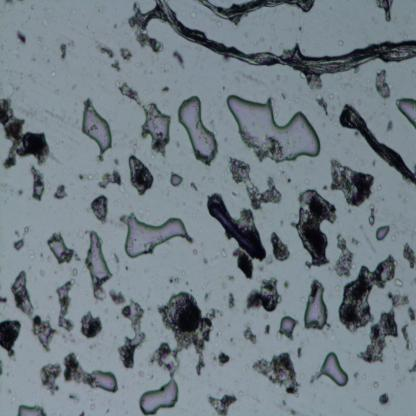Air bubble: (225, 94, 322, 164), (178, 94, 218, 166), (124, 213, 188, 257), (82, 99, 112, 151), (139, 377, 179, 414), (142, 102, 172, 148), (87, 233, 112, 288), (304, 280, 328, 329), (319, 350, 349, 388), (89, 368, 119, 396), (47, 233, 74, 264), (394, 96, 416, 126), (278, 315, 298, 340), (16, 400, 46, 414), (376, 222, 391, 240), (170, 174, 183, 187)
Background material: (153, 290, 219, 383), (337, 256, 399, 330), (0, 95, 55, 170), (356, 291, 406, 365), (296, 185, 339, 268), (13, 267, 55, 350), (227, 156, 282, 208), (326, 156, 376, 212), (248, 350, 300, 398), (119, 299, 147, 369), (130, 3, 166, 55), (244, 277, 282, 314), (53, 276, 78, 332), (61, 350, 89, 390), (332, 234, 354, 280), (130, 155, 154, 195), (0, 320, 23, 360), (38, 360, 61, 395), (27, 166, 48, 204), (268, 231, 291, 262), (81, 308, 103, 340), (97, 44, 122, 72), (97, 167, 124, 191), (206, 393, 238, 413), (374, 68, 392, 102), (118, 80, 142, 105), (235, 251, 255, 280), (375, 0, 396, 26), (400, 238, 416, 269), (90, 194, 109, 220), (399, 322, 413, 352), (166, 269, 189, 287), (278, 398, 301, 416), (107, 287, 126, 308), (241, 70, 263, 88), (216, 349, 232, 370), (278, 162, 292, 186), (322, 320, 338, 340), (328, 92, 337, 126), (315, 96, 330, 116), (172, 50, 186, 71), (185, 176, 201, 194), (44, 108, 62, 124), (54, 182, 69, 201), (76, 168, 96, 182), (57, 38, 68, 63), (361, 74, 373, 96), (225, 288, 236, 311), (388, 219, 399, 242), (368, 202, 378, 226), (276, 86, 289, 104), (58, 332, 76, 345), (385, 113, 396, 134), (14, 28, 26, 47), (4, 78, 20, 92), (33, 32, 47, 48), (200, 280, 210, 301), (218, 274, 233, 288), (120, 47, 133, 63), (378, 390, 389, 408), (335, 77, 349, 91), (243, 330, 257, 344), (112, 249, 121, 269), (6, 386, 16, 404), (293, 343, 303, 361), (66, 38, 76, 56), (407, 356, 416, 375), (334, 36, 346, 50), (352, 368, 366, 380), (14, 238, 26, 252), (69, 262, 78, 280), (406, 307, 416, 323), (129, 136, 137, 156), (20, 224, 32, 237), (400, 186, 408, 204), (281, 276, 292, 289), (262, 322, 272, 336), (77, 229, 91, 239), (4, 0, 16, 11), (40, 15, 51, 27), (96, 150, 105, 164), (68, 393, 80, 403), (123, 190, 132, 203), (218, 245, 225, 261), (161, 84, 171, 95), (242, 318, 251, 330), (70, 79, 78, 92), (44, 54, 52, 66), (110, 195, 119, 205), (199, 253, 208, 263), (159, 63, 168, 73), (242, 29, 250, 40), (190, 8, 197, 20), (51, 64, 57, 78), (111, 21, 118, 33), (148, 354, 154, 367), (374, 193, 382, 202), (233, 77, 242, 85), (0, 360, 4, 378), (35, 267, 44, 275), (0, 297, 8, 306), (134, 61, 144, 68), (97, 2, 103, 13), (14, 227, 20, 238), (137, 367, 143, 377), (144, 67, 150, 77), (259, 35, 264, 47), (237, 389, 244, 397), (123, 264, 130, 272), (106, 407, 113, 415), (302, 177, 310, 184), (113, 80, 120, 88), (374, 379, 379, 390), (230, 336, 235, 346), (29, 55, 36, 62), (83, 23, 90, 30), (31, 4, 37, 12), (90, 402, 96, 410), (37, 250, 43, 258), (30, 249, 34, 260), (54, 89, 60, 96), (192, 249, 198, 256), (52, 142, 59, 148), (376, 183, 382, 190), (226, 321, 232, 328), (263, 312, 268, 320), (114, 157, 119, 165), (78, 411, 85, 416), (19, 189, 24, 196), (277, 74, 281, 82), (158, 172, 162, 180), (216, 331, 220, 339), (301, 295, 305, 303), (22, 18, 27, 24), (345, 148, 350, 154), (20, 0, 27, 4), (367, 383, 371, 390), (0, 88, 3, 96), (222, 86, 226, 92), (32, 79, 36, 85), (69, 166, 72, 174), (127, 73, 131, 78), (0, 44, 5, 48), (236, 381, 238, 386), (22, 12, 24, 17)
Cellulose filter fibre: (156, 0, 416, 79), (342, 105, 416, 184), (196, 0, 316, 22)
Microfibre: (209, 205, 265, 260)
